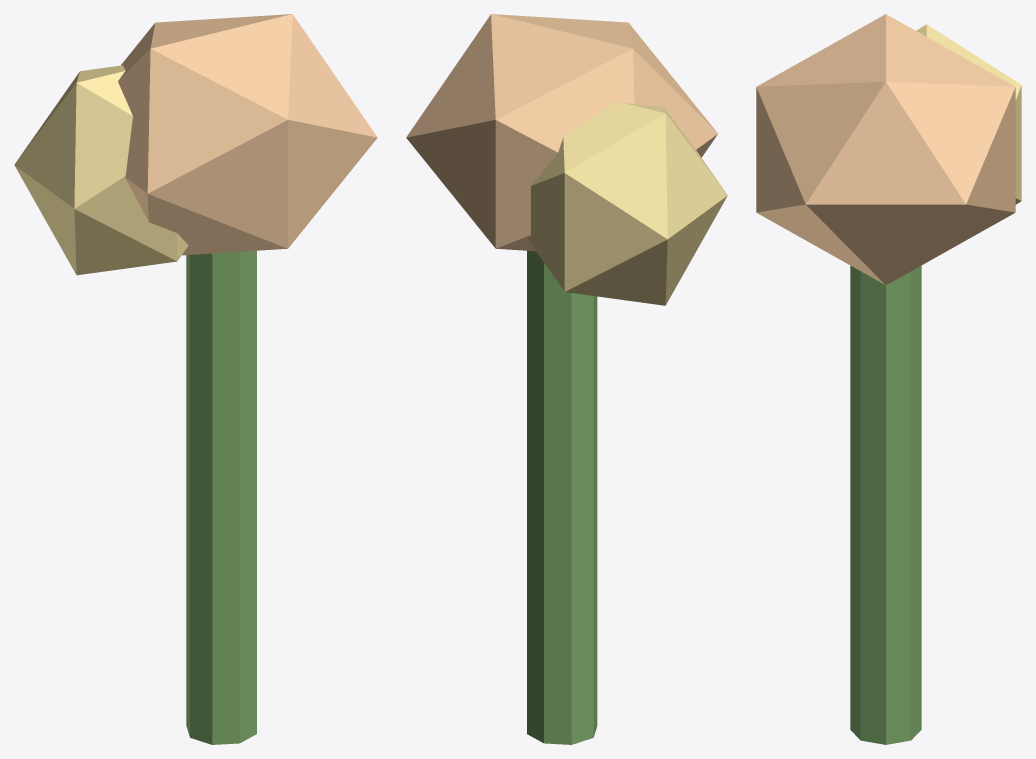
Rendered from flower.glb.
The picture shows the model from 3 angles, left to right: view 1: azimuth 30°, elevation 25°; view 2: azimuth 150°, elevation 25°; view 3: azimuth 270°, elevation 25°; orthographic projection. The views are drawn at different scales.
Parts seen in each view (by area): view 1: flower_part_1, flower_part_0, flower_part_2; view 2: flower_part_1, flower_part_0, flower_part_2; view 3: flower_part_1, flower_part_0, flower_part_2.
Boxes of the visible parts, left/top/right/bottom form: flower_part_1: left=118, top=14, right=377, bottom=255; flower_part_0: left=186, top=250, right=256, bottom=744; flower_part_2: left=14, top=65, right=188, bottom=275; flower_part_1: left=406, top=14, right=717, bottom=251; flower_part_0: left=527, top=250, right=597, bottom=744; flower_part_2: left=528, top=101, right=727, bottom=305; flower_part_1: left=756, top=14, right=1015, bottom=285; flower_part_0: left=850, top=265, right=921, bottom=744; flower_part_2: left=916, top=24, right=1021, bottom=204.
Bounding box in the file's own units: 0.3012 × 0.7406 × 0.2612.
